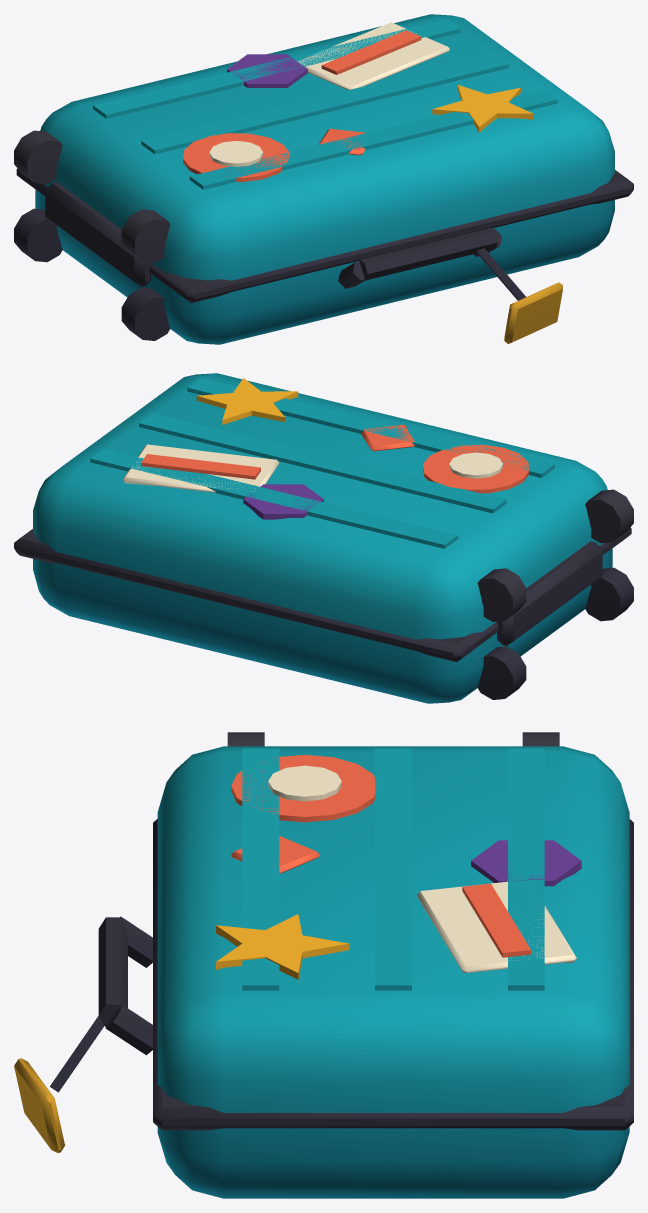
Rendered from hz_suitcase.glb.
3 views of the same model, one above another, from view 1: azimuth 30°, elevation 25°; view 2: azimuth 150°, elevation 25°; view 3: azimuth 270°, elevation 25° (orthographic). The views are drawn at different scales.
Visible parts, largest first — view 1: hz_suitcase; view 2: hz_suitcase; view 3: hz_suitcase.
Part boxes in pixels (box(x1,y1,x2,y2)): hz_suitcase: box(14, 14, 633, 344); hz_suitcase: box(14, 373, 633, 703); hz_suitcase: box(14, 732, 633, 1198).
Bounding box in the file's own units: 1.02 × 0.3295 × 0.8407.
